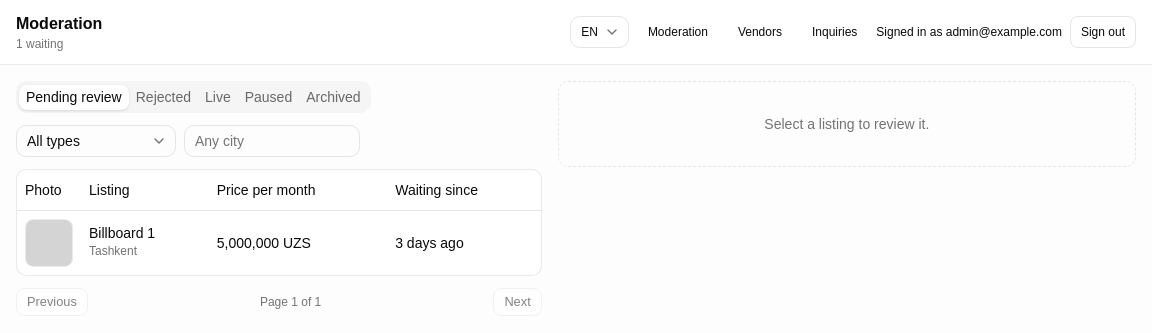
tabs and filters › an empty filtered result says so and Clear filters brings the list back
Expected: the link "Billboard 1" is shown, 89,224 -> 155,240
Type "Nukus" into the field labelled "city" at point(272, 141), box 184,125 -> 360,157
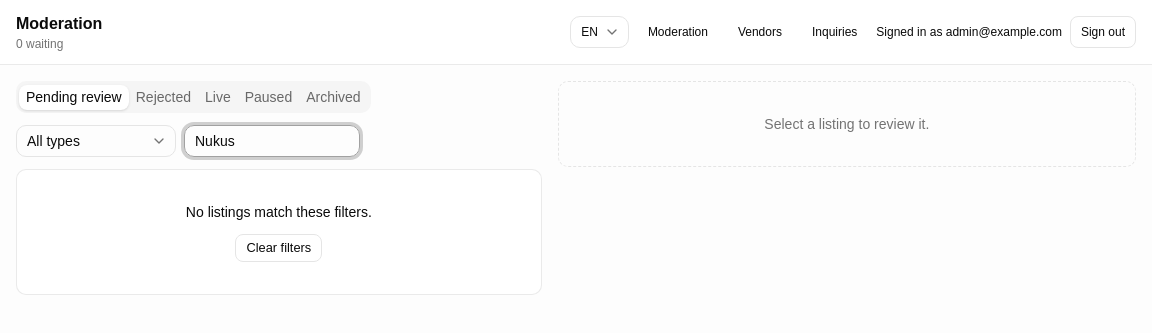
Result: the text "No listings match these filters." is shown at 186,204 -> 372,220
Click the button "Clear filters" at point(279, 248), box 236,234 -> 322,262
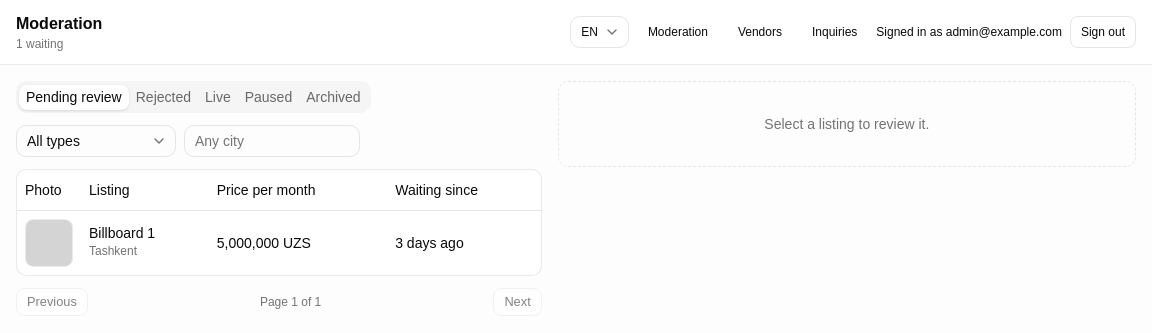
Result: the link "Billboard 1" is shown at 89,224 -> 155,240
Result: the field labelled "city" is empty at 184,125 -> 360,157
